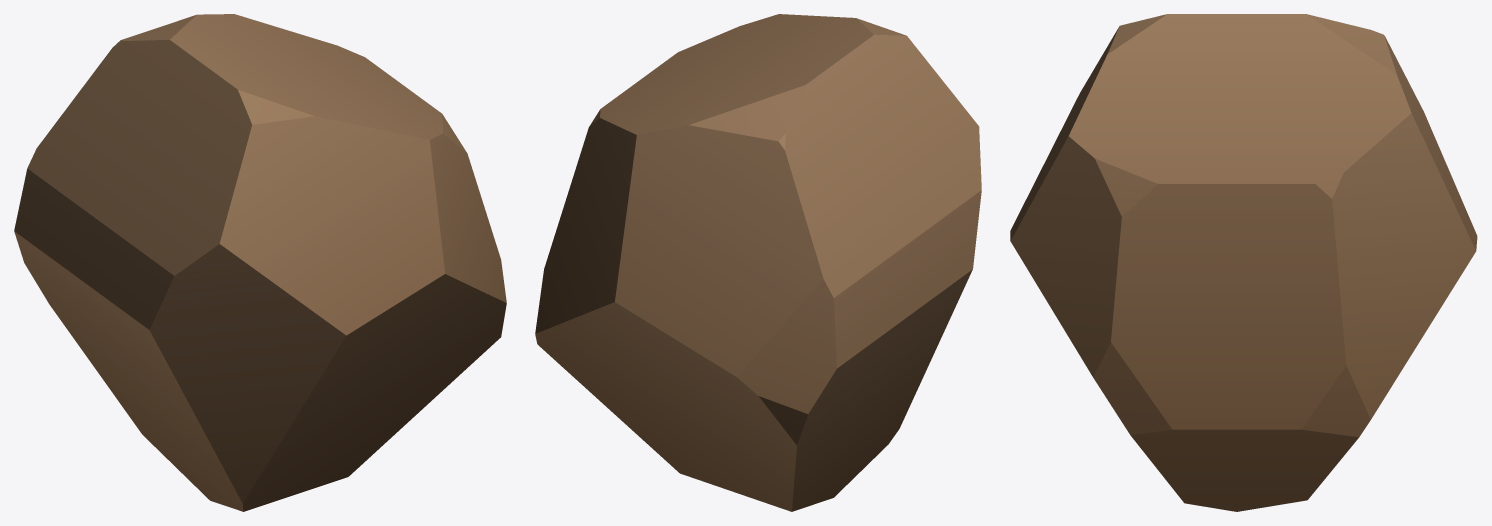
Rendered from Rock_02.fbx.
The picture shows the model from 3 angles, left to right: view 1: azimuth 30°, elevation 25°; view 2: azimuth 150°, elevation 25°; view 3: azimuth 270°, elevation 25°; orthographic projection.
Visible parts, largest first — view 1: Rock_02; view 2: Rock_02; view 3: Rock_02.
Part boxes in pixels (x1,y1,x2,y2): Rock_02: (14,14,506,511); Rock_02: (535,14,981,511); Rock_02: (1010,14,1477,511).
Bounding box in the file's own units: 97.08 × 117 × 111.
